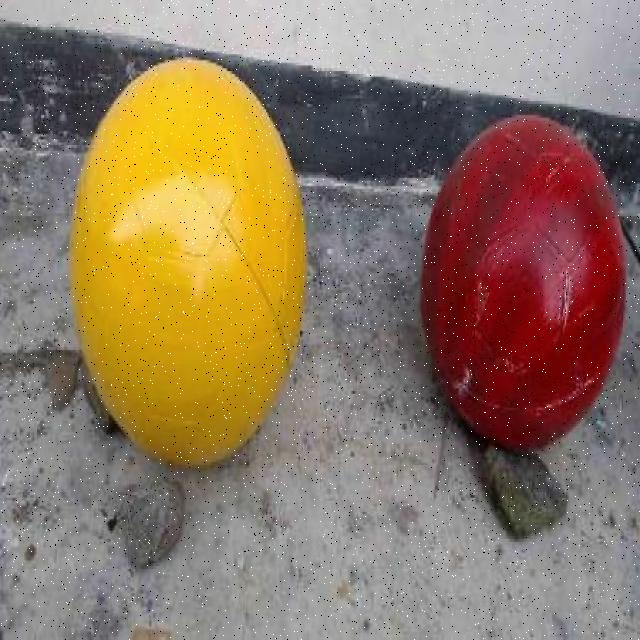buoy: (67, 56, 308, 463), (420, 110, 627, 453)
